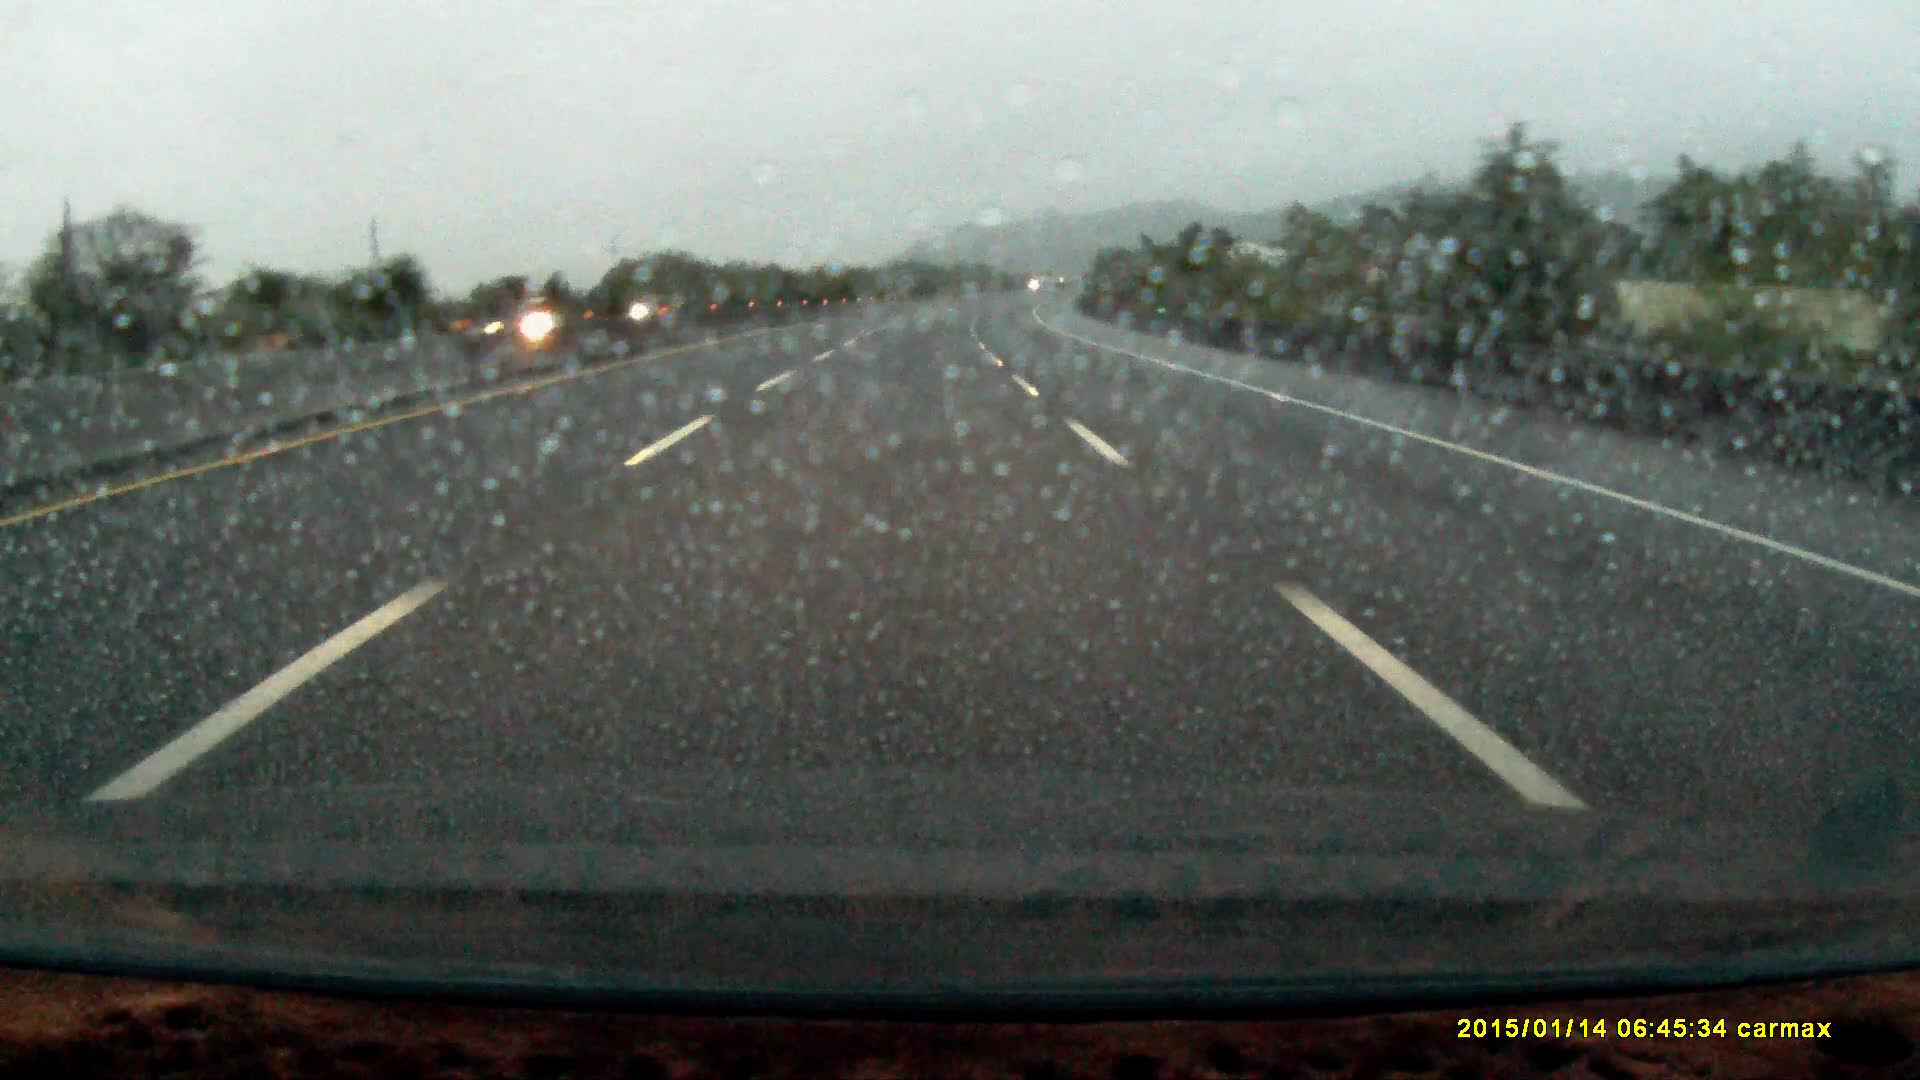vehicle: (487, 299, 605, 336), (630, 293, 702, 323)
